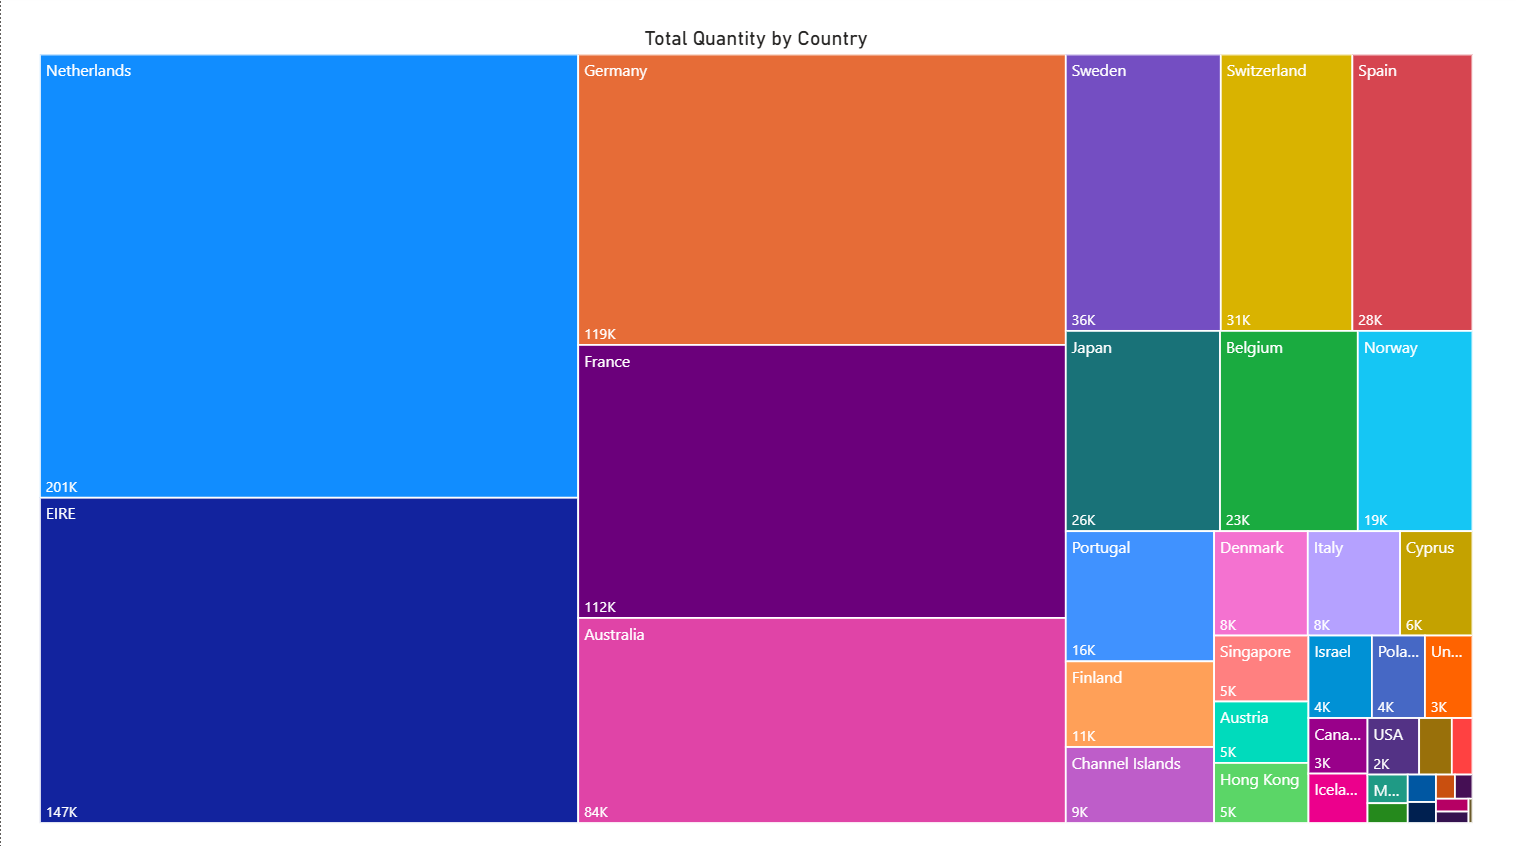

The page's visual inventory and layout, read from the dashboard file:
{"tool":"powerbi","page":{"name":"Question4","canvas":[1280,720],"ordinal":3},"visuals":[{"type":"treemap","fields":{"Group":["Online Retail.Country"],"Values":["Online Retail.Total Quantity"]},"box":[28.2,26.3,1217.8,677],"z":0}]}

Visuals, with their boxes in screenshot pixels (x1, y1, x2, y2), scaled from the page's 1280x720 canvas onto the 1516x846 screenshot:
treemap - Online Retail.Country x Online Retail.Total Quantity: bbox=[33, 31, 1476, 826]
